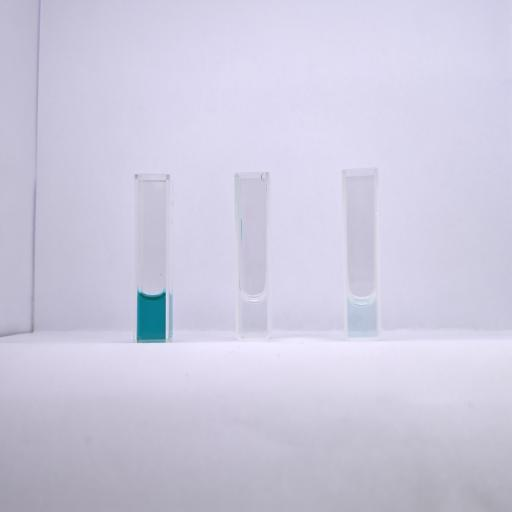cuvette: (340, 164, 384, 344), (132, 171, 172, 346), (233, 170, 270, 343)
liquid: (138, 293, 166, 340), (240, 294, 268, 338), (348, 295, 377, 337)
